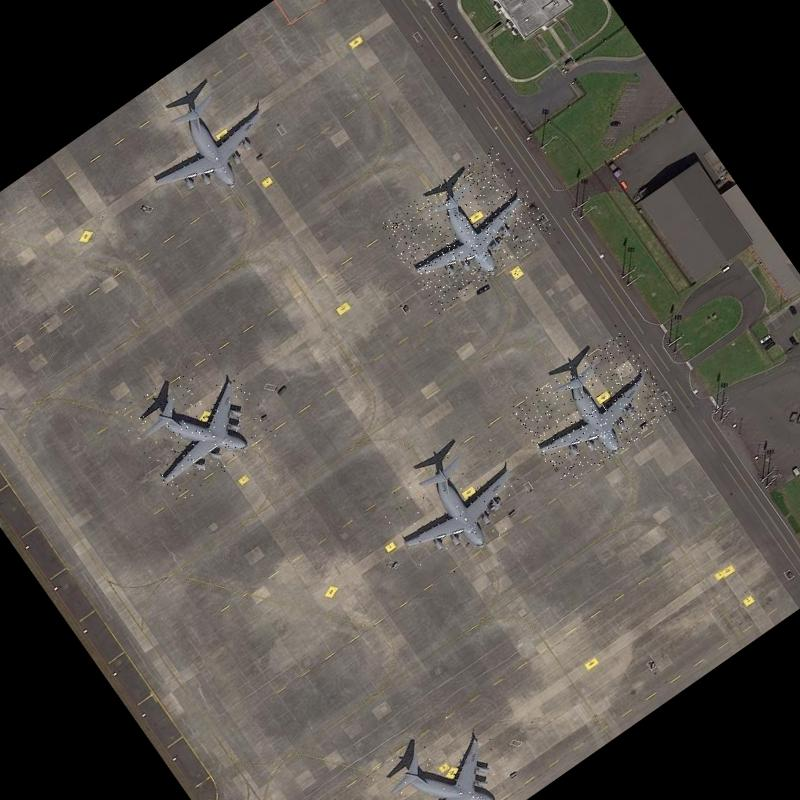A3: (378, 144, 556, 314), (121, 61, 297, 229), (376, 425, 547, 587), (508, 328, 679, 489), (114, 342, 280, 504), (357, 701, 523, 800)
